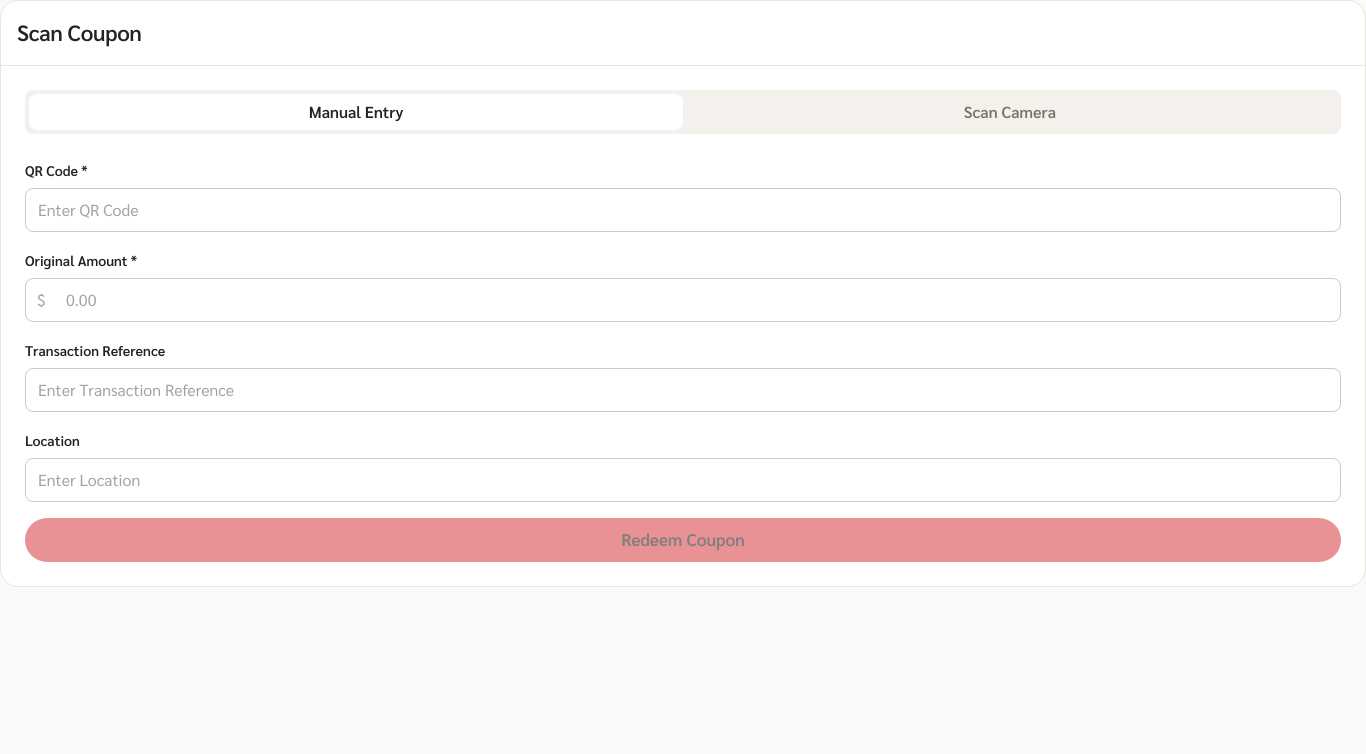
CouponScanner › Amount Input and Discount Preview › should display discount preview when valid coupon and amount
Step 1. Type "QR123456" into the field labelled "QR Code *" → (683, 210), box [25,188,1341,232]
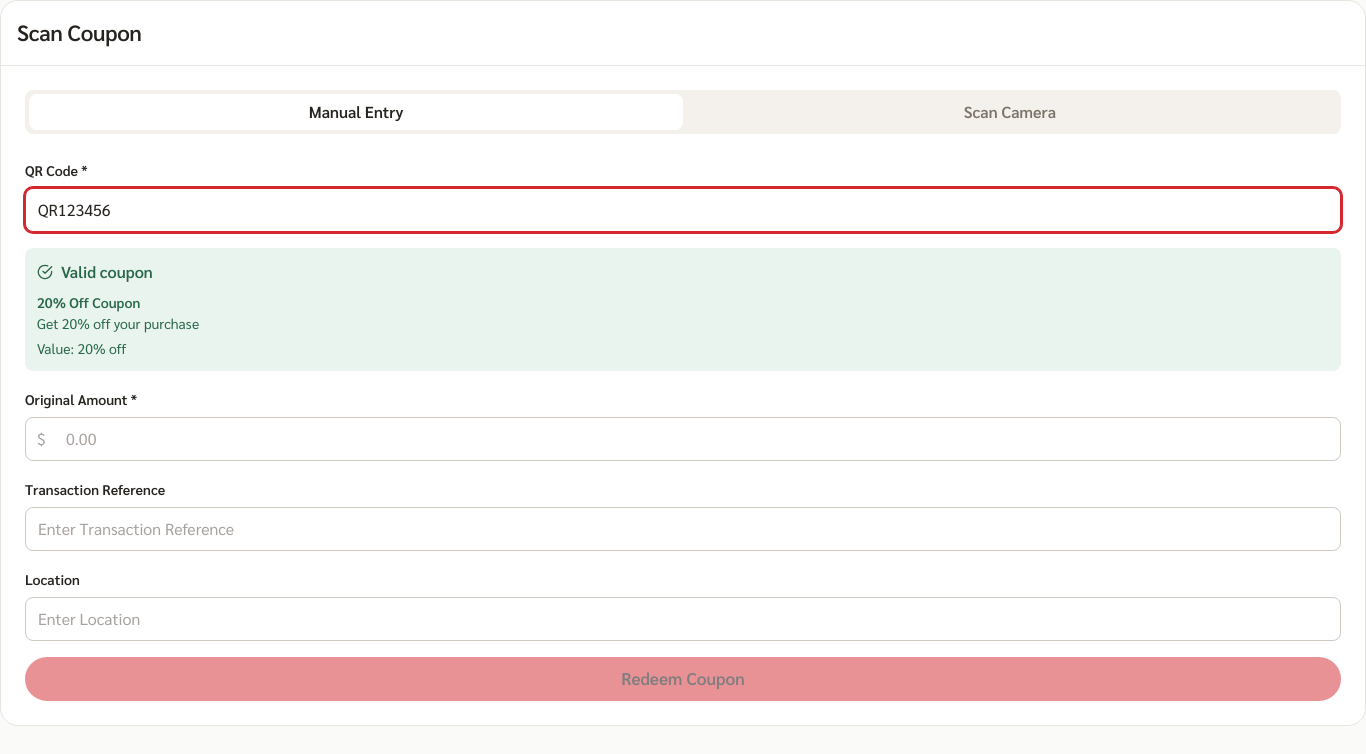
Check: the text "Valid coupon" is shown, box [61,260,153,284]
Step 2. Type "1000" into the number field labelled "Original Amount *" → (683, 439), box [25,417,1341,461]
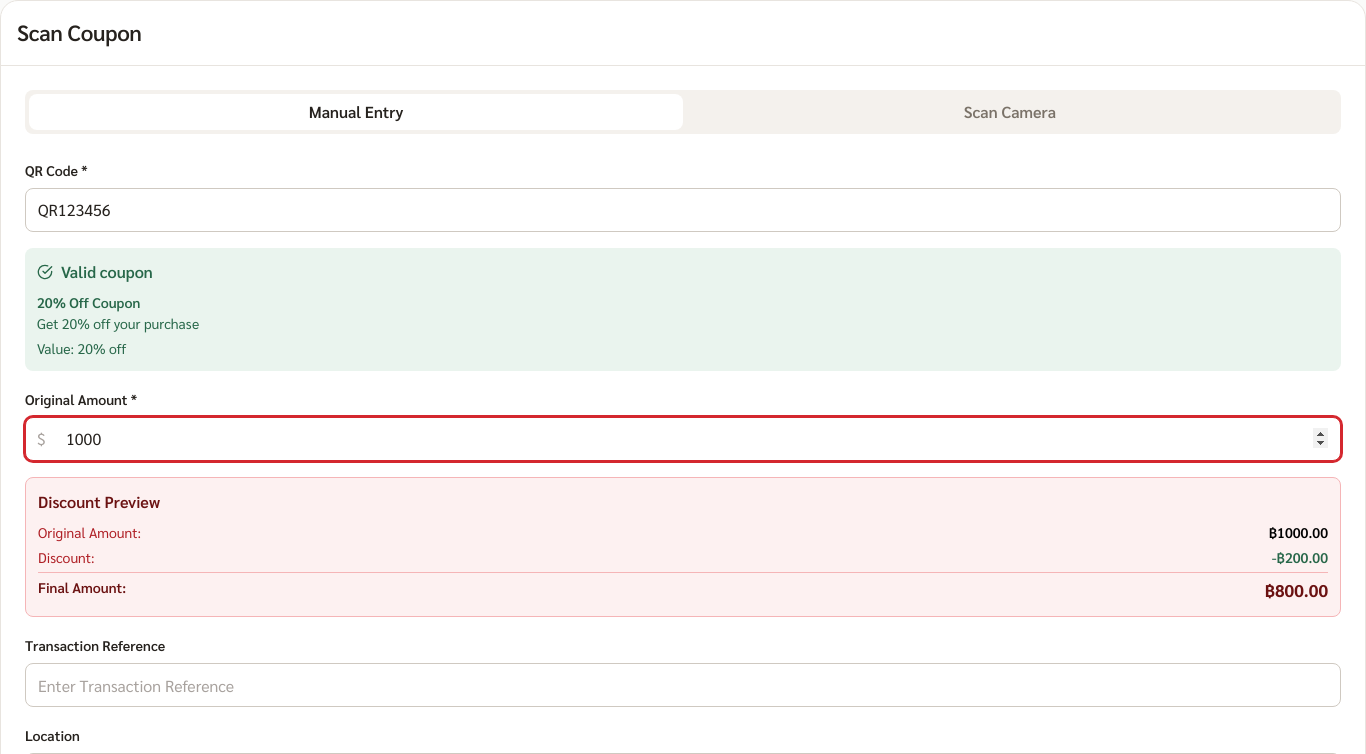
Check: the heading "Discount Preview" is shown, box [38,491,160,512]
